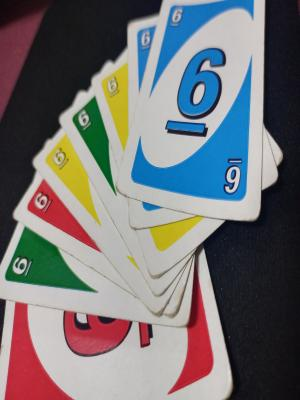blue: (165, 10, 253, 199)
num_6: (223, 153, 244, 196), (11, 251, 34, 280), (31, 191, 54, 218), (53, 147, 73, 173), (75, 111, 96, 133), (106, 75, 122, 101), (168, 7, 185, 29), (139, 31, 151, 54)
red: (11, 303, 211, 386)
